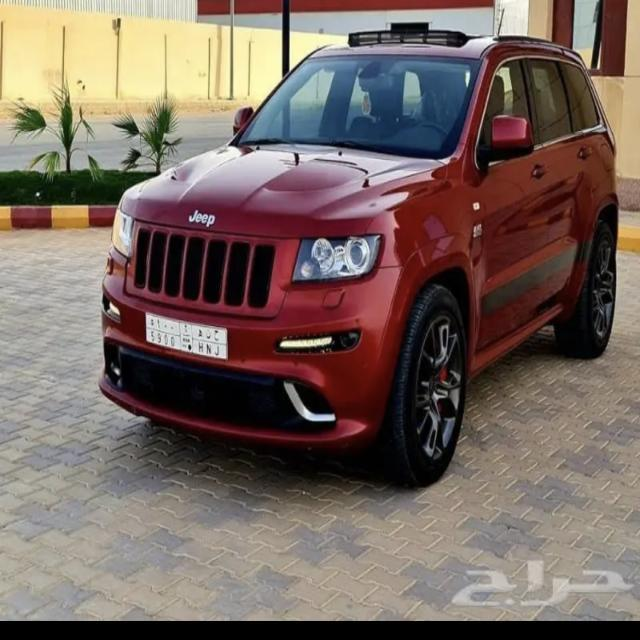license_plate: (146, 311, 228, 361)
